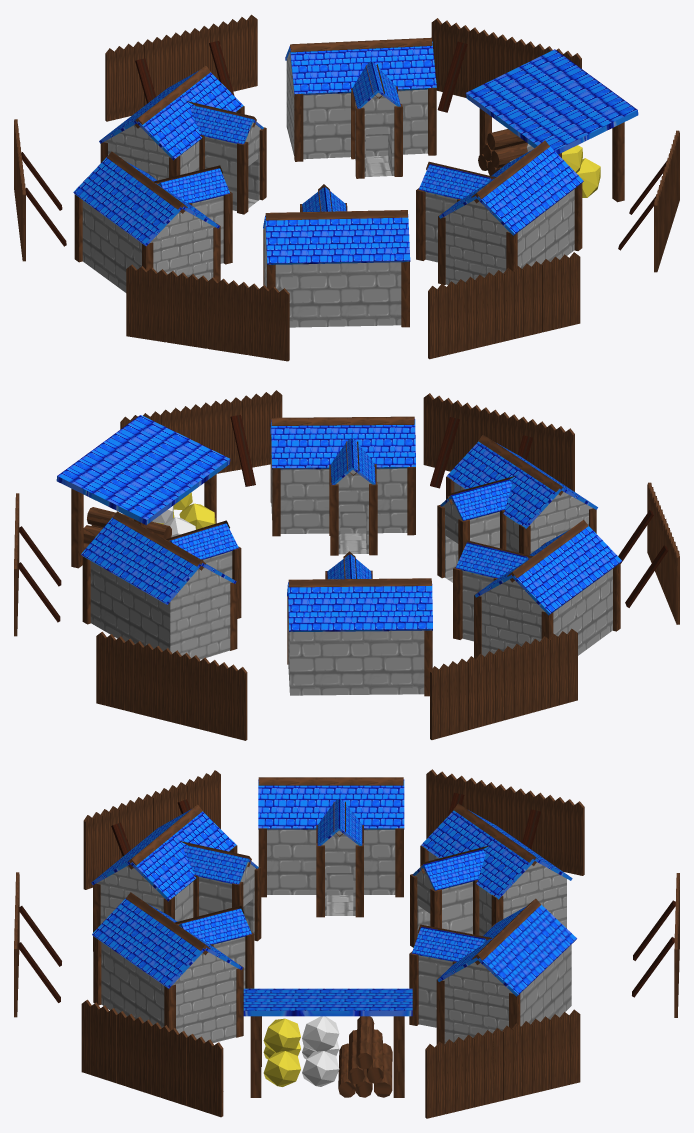
File: CityEra2.fbx
3 views of the same model, one above another, from view 1: azimuth 30°, elevation 25°; view 2: azimuth 150°, elevation 25°; view 3: azimuth 270°, elevation 25° (orthographic).
Parts seen in each view (by area): view 1: Cube.070, Cube.108, Cube.125, Cube.093, Cube.103, Cube.039, Cube.035, Cube.098, Cube.130, Cube.081, Cube.077, Cube.078 (+77 smaller); view 2: Cube.070, Cube.039, Cube.077, Cube.082, Cube.093, Cube.125, Cube.129, Cube.034, Cube.098, Cube.104, Cube.108, Cube.126 (+66 smaller); view 3: Cube.125, Cube.039, Cube.093, Cube.097, Cube.070, Cube.130, Cube.034, Cube.081, Cube.104, Cube.077, Cube.108, Cube.078 (+80 smaller).
Part boxes in pixels (x1,y1,x2,y2): Cube.070: (465,49,638,154); Cube.108: (264,224,401,327); Cube.125: (444,189,574,284); Cube.093: (82,200,214,292); Cube.103: (265,214,410,264); Cube.039: (286,52,427,159); Cube.035: (290,41,436,95); Cube.098: (73,156,182,246); Cube.130: (477,146,583,235); Cube.081: (137,72,243,160); Cube.077: (104,112,236,180); Cube.078: (205,122,260,210); Cube.070: (56,415,230,525); Cube.039: (90,561,231,659); Cube.077: (288,605,424,695); Cube.082: (288,583,432,631); Cube.093: (480,569,612,656); Cube.125: (271,441,407,533); Cube.129: (271,420,415,469); Cube.034: (81,516,200,604); Cube.098: (512,525,621,615); Cube.104: (447,441,561,528); Cube.108: (454,482,592,553); Cube.126: (336,470,371,554); Cube.125: (101,942,237,1042); Cube.039: (442,944,571,1043); Cube.093: (267,829,395,894); Cube.097: (258,781,404,829); Cube.070: (243,988,412,1016); Cube.130: (92,897,204,988); Cube.034: (478,904,576,996); Cube.081: (421,810,534,899); Cube.104: (130,811,236,901); Cube.077: (428,851,566,935); Cube.108: (97,866,193,924); Cube.078: (415,868,472,936).
Bounding box in the file's own units: 1170 × 204 × 1185.
6 materials, 4 textured.
